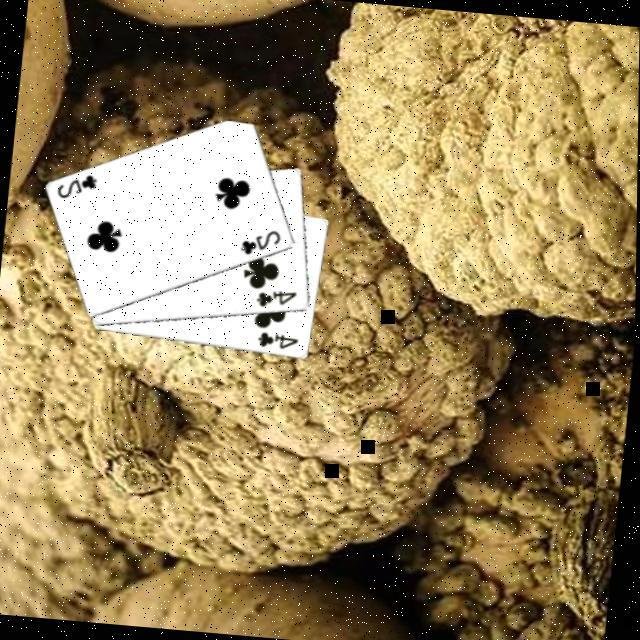2C: (52, 167, 100, 203), (235, 223, 282, 259)
4C: (252, 284, 298, 312), (252, 327, 300, 352)
